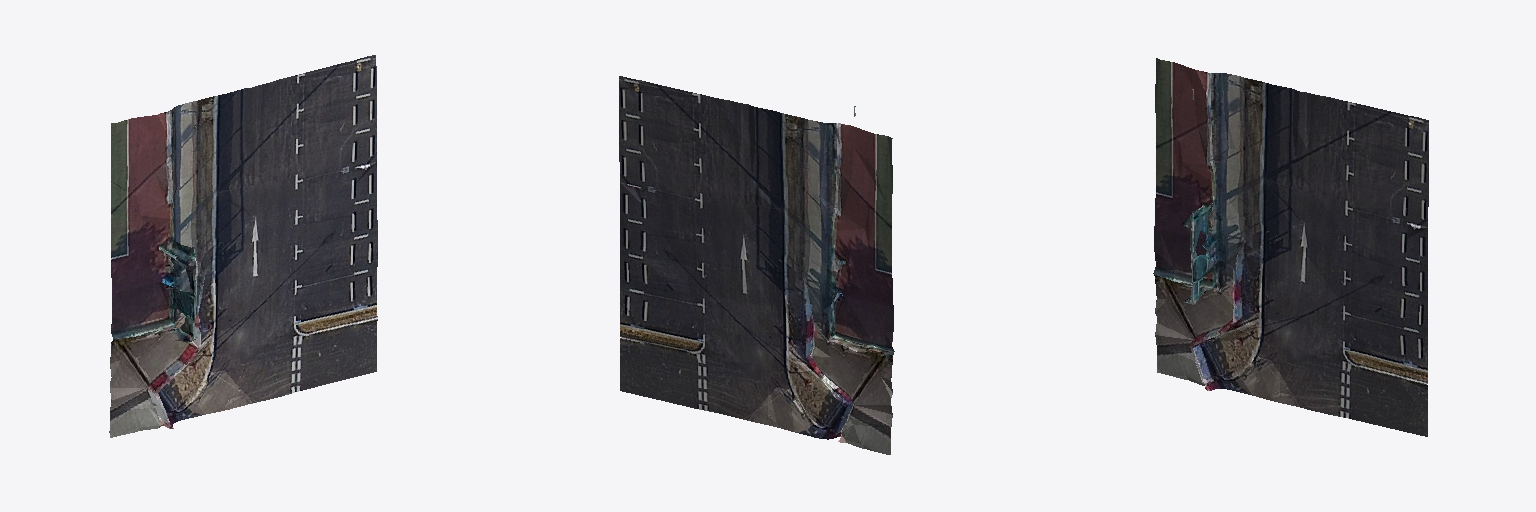
3 views of the same model, side by side, from view 1: azimuth 30°, elevation 25°; view 2: azimuth 150°, elevation 25°; view 3: azimuth 330°, elevation 25° (orthographic).
Parts seen in each view (by area): view 1: obj_0; view 2: obj_0; view 3: obj_0.
Part boxes in pixels (left/top/right/bottom): obj_0: left=109, top=55, right=377, bottom=437; obj_0: left=619, top=76, right=894, bottom=454; obj_0: left=1153, top=58, right=1428, bottom=436.
Size of the model in its own units: 20.08 by 22.53 by 3.75.
Materials: 1 (1 with a texture image).